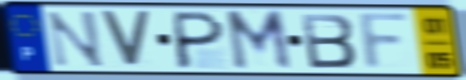B: (297, 11, 359, 70)
F: (356, 10, 413, 73)
M: (222, 8, 296, 73)
N: (45, 9, 108, 69)
P: (173, 9, 227, 71)
V: (97, 9, 154, 70)
